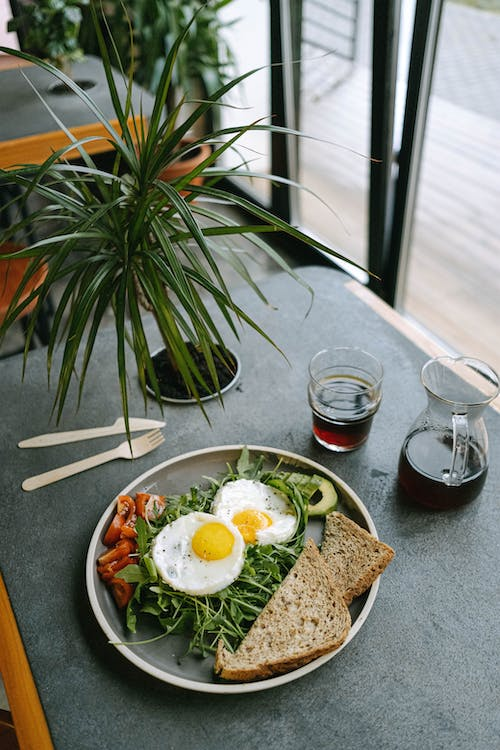knife: (16, 414, 167, 450)
